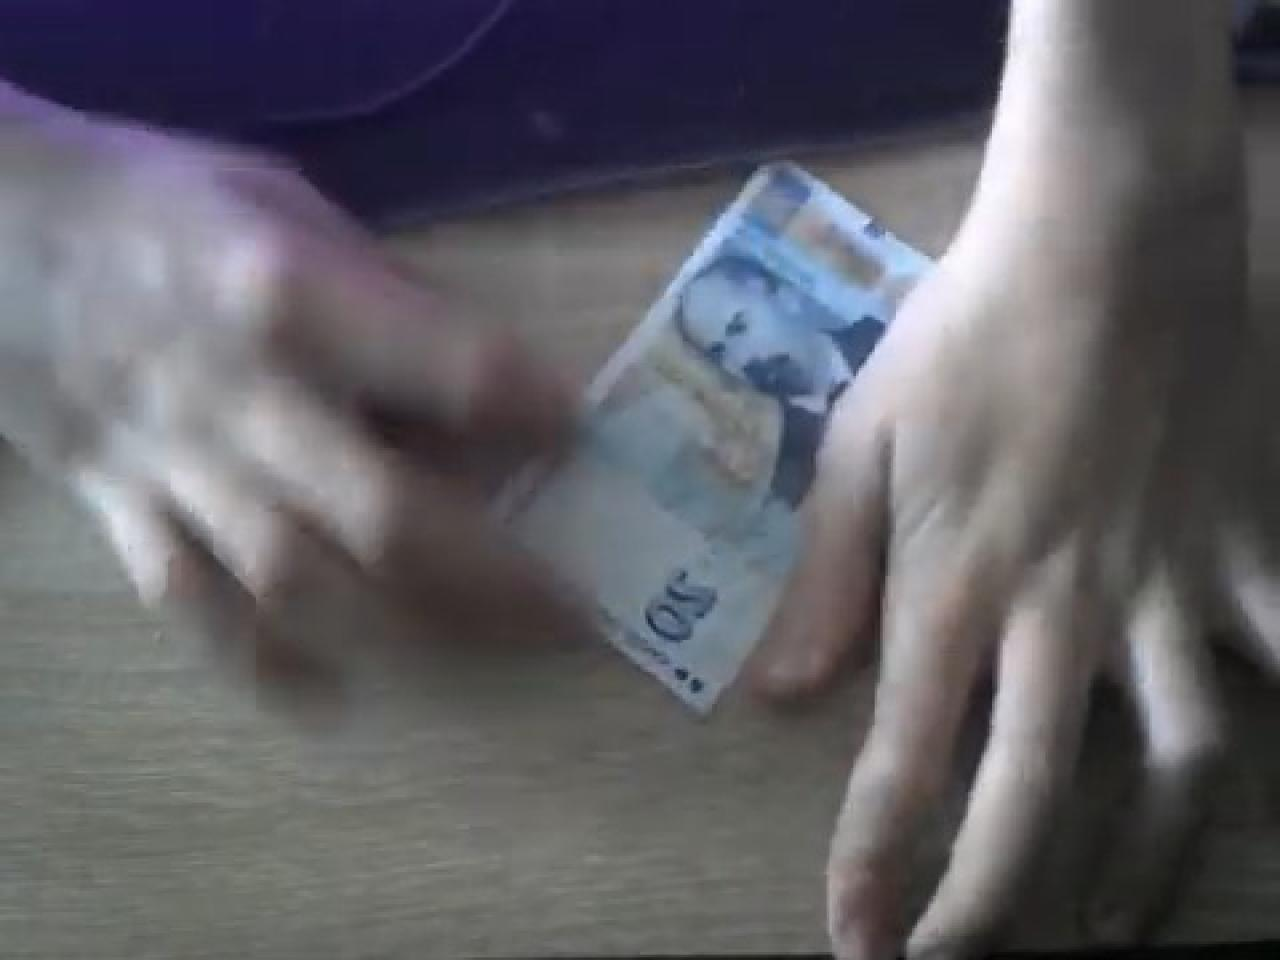20leva: (491, 162, 930, 720)
